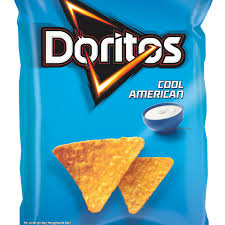Doritos: (18, 5, 211, 222)
